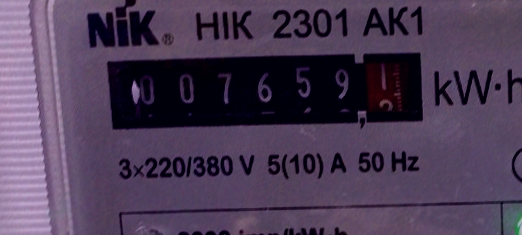0: (175, 69, 198, 106), (136, 70, 157, 109)
1: (375, 57, 391, 93)
5: (293, 63, 313, 100)
6: (253, 68, 275, 104)
7: (213, 68, 234, 106)
9: (331, 65, 352, 102)
screen: (98, 46, 432, 137)
